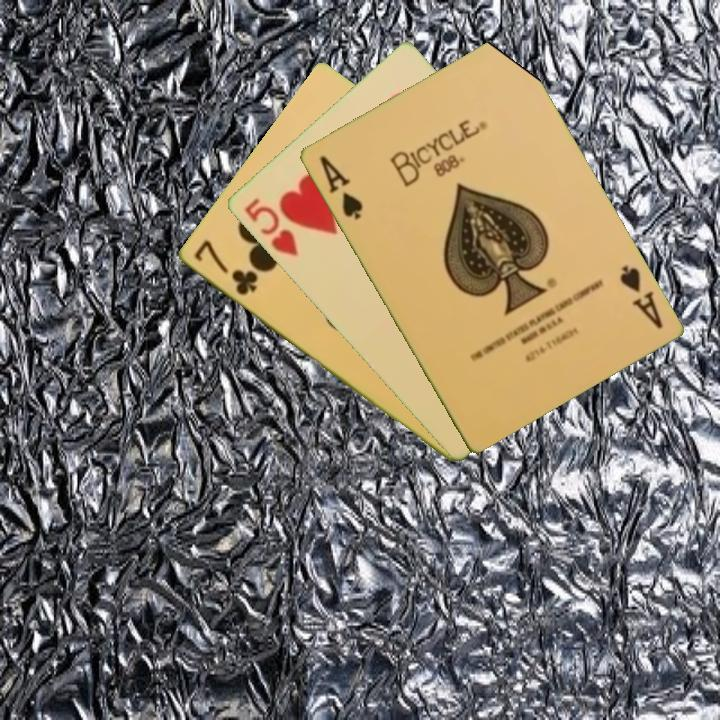5h: (240, 194, 300, 259)
7c: (190, 236, 261, 299)
As: (315, 151, 366, 223), (615, 261, 665, 332)
